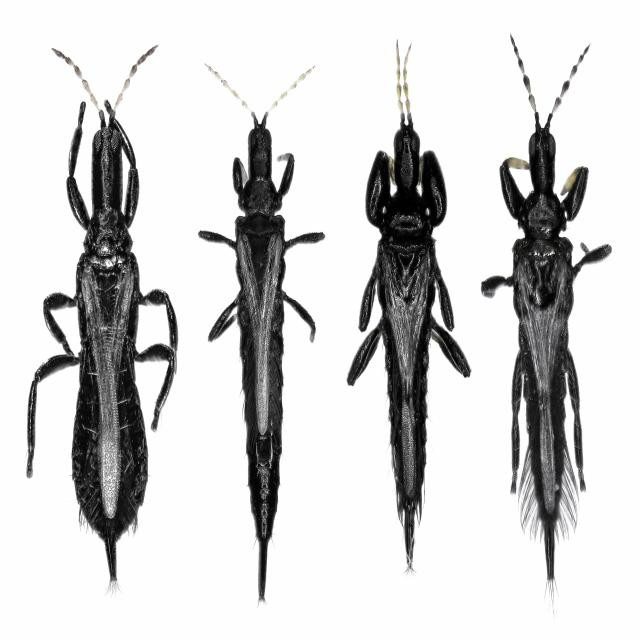Thrip-Adult-: (18, 26, 176, 604), (193, 32, 332, 606), (488, 25, 620, 593), (352, 36, 476, 586)
